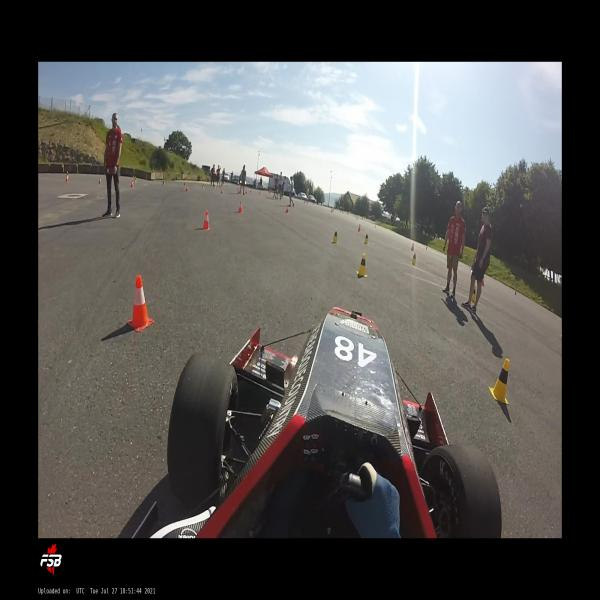orange_cone: (126, 274, 154, 332), (202, 210, 210, 230), (238, 201, 243, 213), (285, 204, 289, 214), (357, 223, 361, 232), (411, 243, 414, 251), (130, 180, 133, 188), (220, 188, 223, 194), (66, 174, 68, 182), (186, 185, 188, 191), (99, 177, 101, 183)
yellow_cone: (488, 358, 510, 405), (356, 252, 368, 277), (332, 228, 338, 244), (363, 233, 369, 245), (411, 252, 416, 266), (471, 289, 475, 303), (374, 222, 376, 228), (134, 177, 136, 183), (202, 184, 204, 188), (163, 181, 164, 186)
